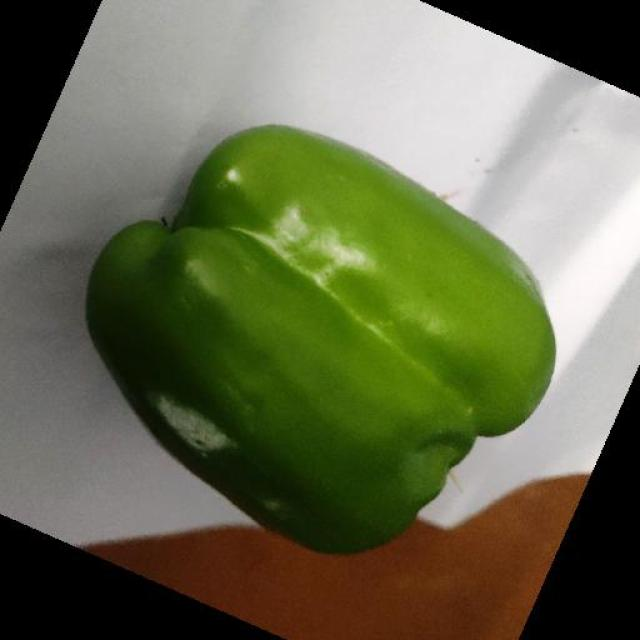Stale_Capsicum: (163, 155, 426, 578)
